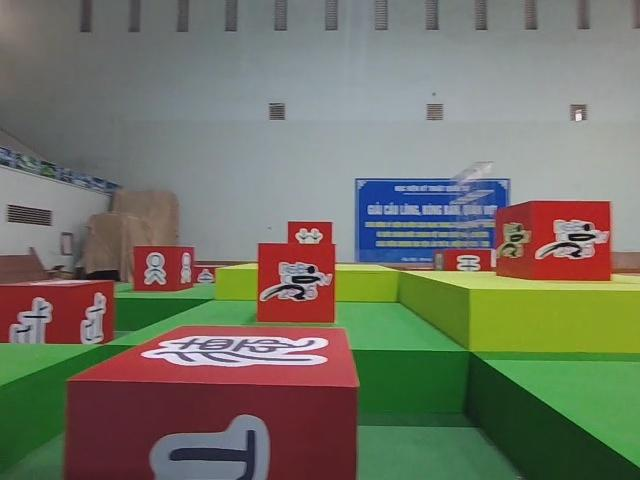R1: (494, 197, 614, 283), (255, 240, 334, 323)
R2 Fake: (60, 325, 362, 480)
R2 Real: (0, 277, 114, 345), (133, 242, 194, 291)
